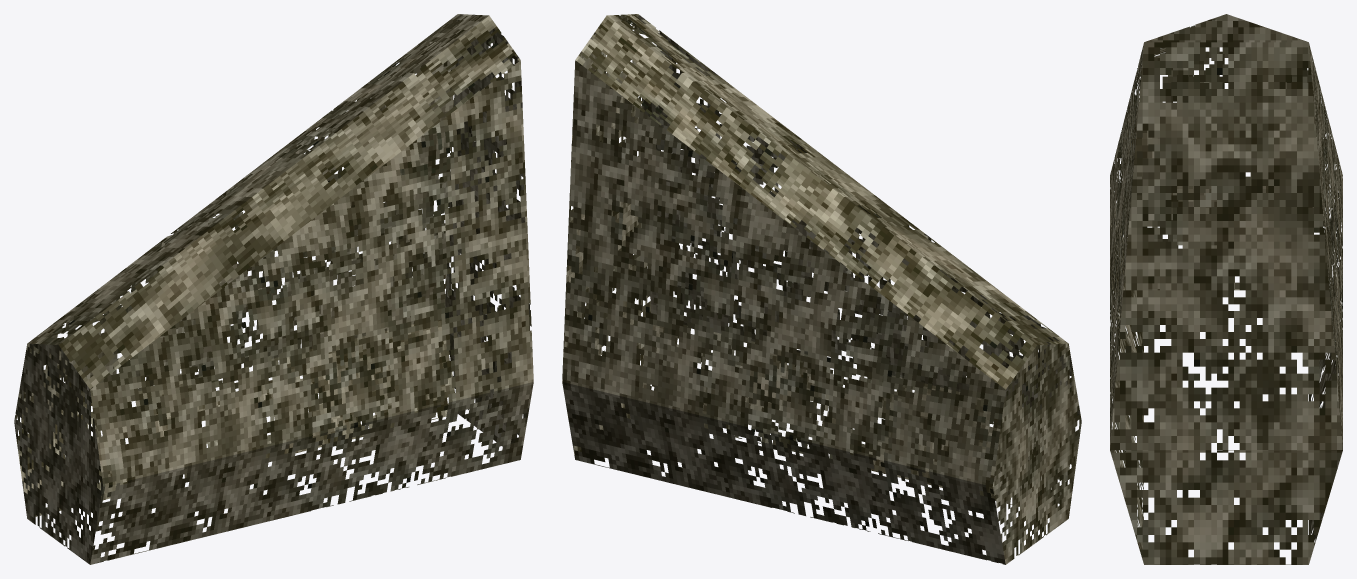
The model's file is bush_connector_straight_dead.glb.
3 views of the same model, side by side, from view 1: azimuth 30°, elevation 25°; view 2: azimuth 150°, elevation 25°; view 3: azimuth 270°, elevation 25° (orthographic). The views are drawn at different scales.
Parts seen in each view (by area): view 1: bush_connector_straight_dead; view 2: bush_connector_straight_dead; view 3: bush_connector_straight_dead.
Part boxes in pixels (x1,y1,x2,y2): bush_connector_straight_dead: (14,14,533,564); bush_connector_straight_dead: (562,14,1081,564); bush_connector_straight_dead: (1110,14,1342,564).
Size of the model in its own units: 2.01 by 1.88 by 0.7191.
Materials: 1 (1 with a texture image).
